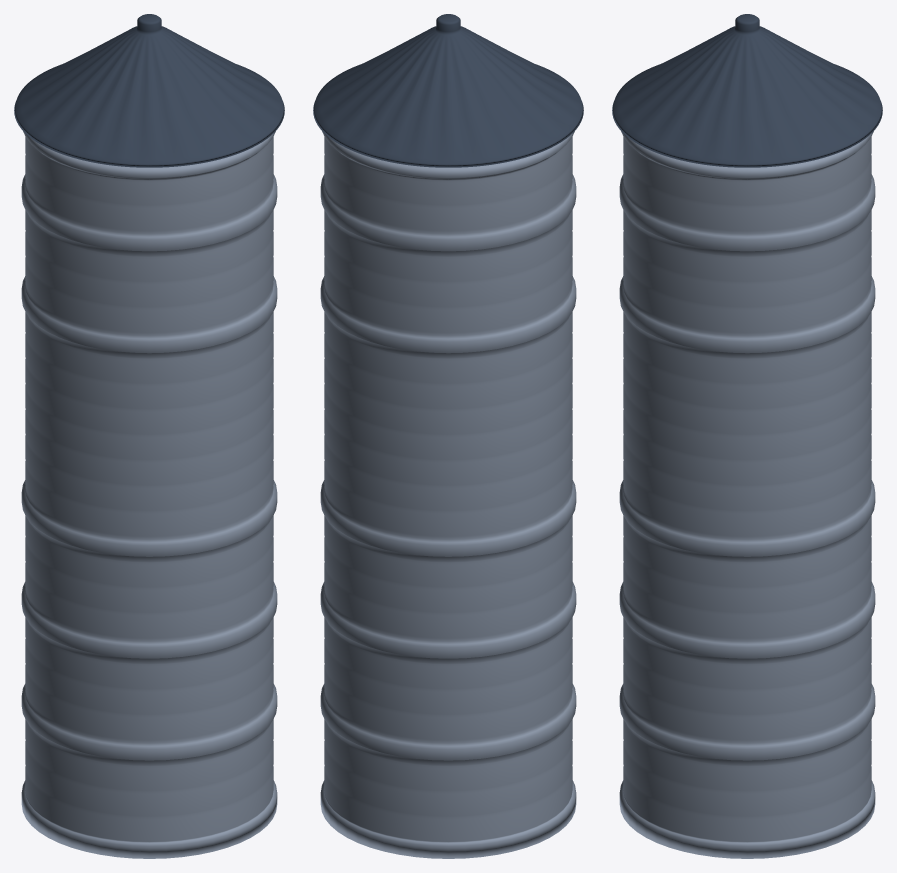
Rendered from grain-silo-small-shell.glb.
The picture shows the model from 3 angles, left to right: view 1: azimuth 30°, elevation 25°; view 2: azimuth 150°, elevation 25°; view 3: azimuth 270°, elevation 25°; orthographic projection.
Visible parts, largest first — view 1: Grain-silo-small-shellBody; view 2: Grain-silo-small-shellBody; view 3: Grain-silo-small-shellBody.
Boxes of the visible parts, x1=… form: Grain-silo-small-shellBody: x1=14, y1=14, x2=284, y2=858; Grain-silo-small-shellBody: x1=313, y1=14, x2=583, y2=858; Grain-silo-small-shellBody: x1=612, y1=14, x2=882, y2=858.
Size of the model in its own units: 10.6 by 34 by 10.6.
